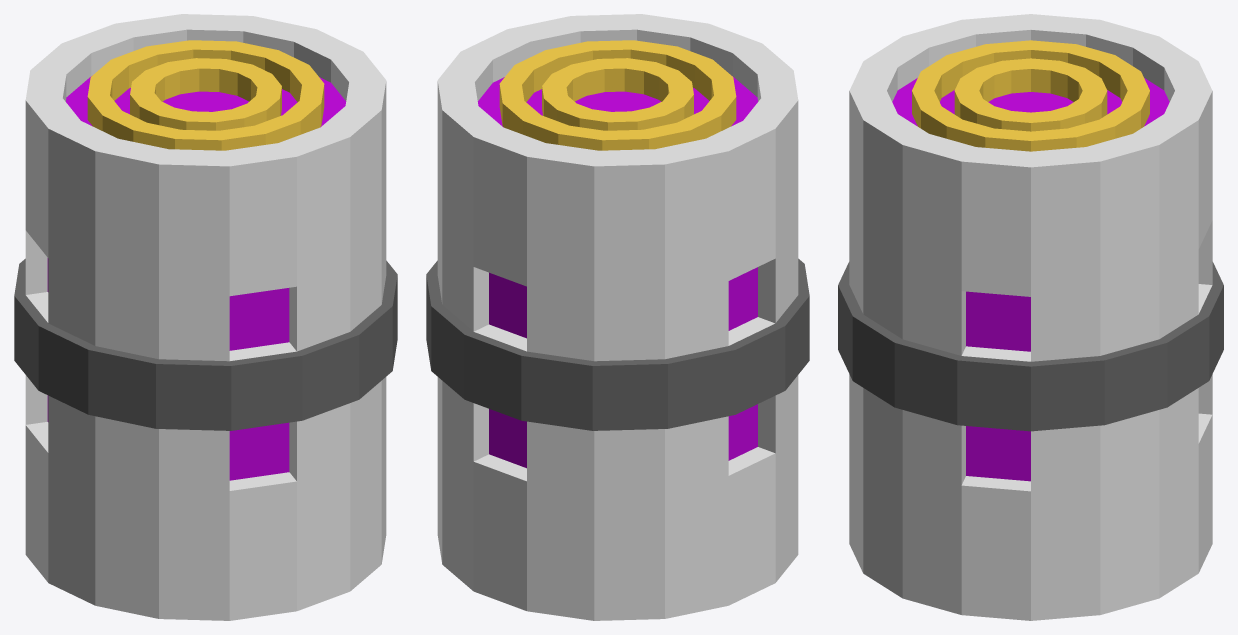
Rendered from LargeBattery.fbx.
The picture shows the model from 3 angles, left to right: view 1: azimuth 30°, elevation 25°; view 2: azimuth 150°, elevation 25°; view 3: azimuth 270°, elevation 25°; orthographic projection.
Visible parts, largest first — view 1: Cylinder.002; view 2: Cylinder.002; view 3: Cylinder.002.
Boxes of the visible parts, x1,y1,x2,y2 form: Cylinder.002: (14,14,397,620); Cylinder.002: (426,14,809,620); Cylinder.002: (838,14,1223,620).
Size of the model in its own units: 38.26 by 49.63 by 38.26.
